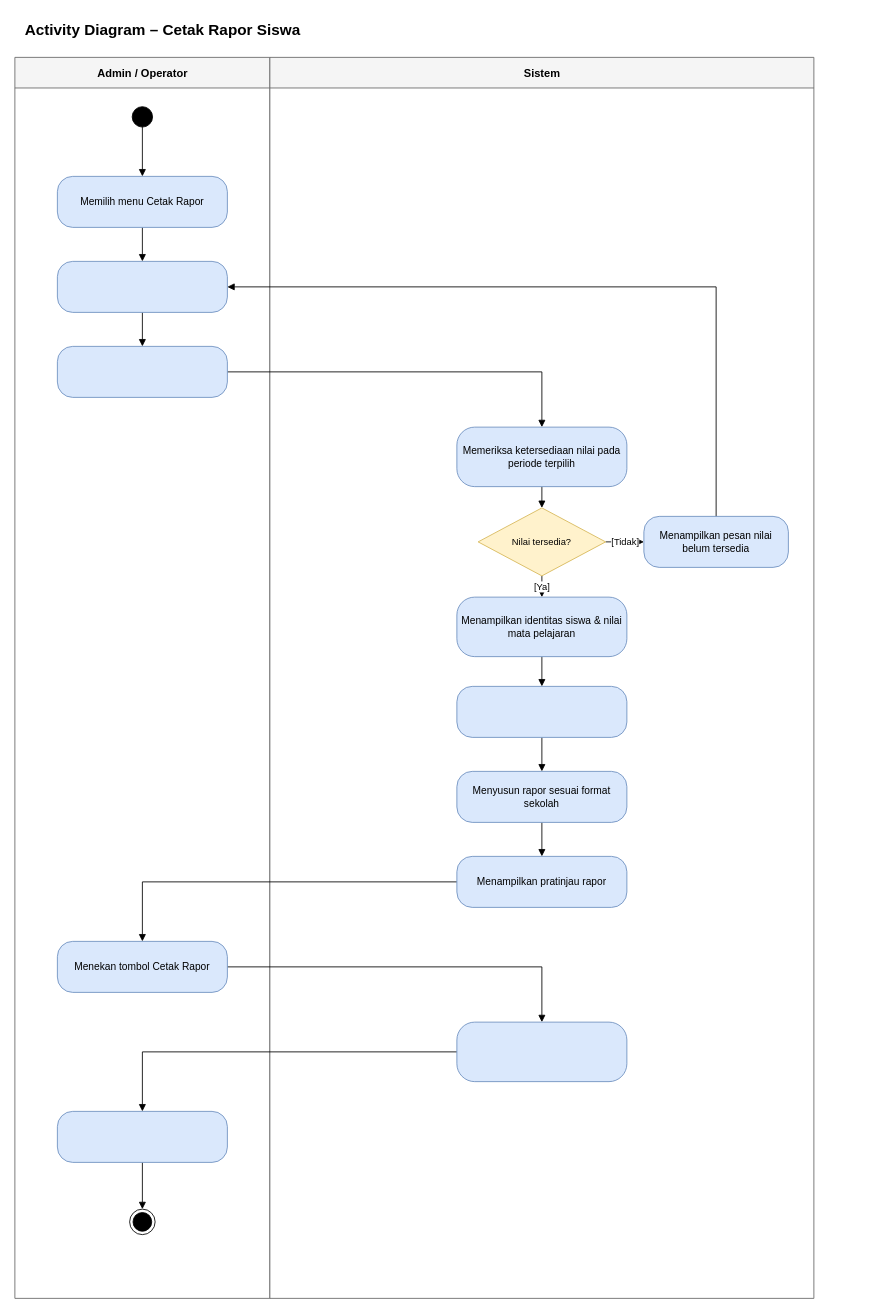
The diagram is 888 pixels wide and 1313 high, and some of its shapes have lost their labels. Here are the shapes that lost their labels. From the top down, the centre of each, then its label:
At [142,286]: "Memilih semester & tahun ajaran".
At [142,371]: "Memilih siswa".
At [541,711]: "Menghitung nilai akhir sesuai formula sekolah".
At [541,1051]: "Menghasilkan dokumen rapor siap cetak (PDF)".
At [142,1136]: "Mencetak rapor".
